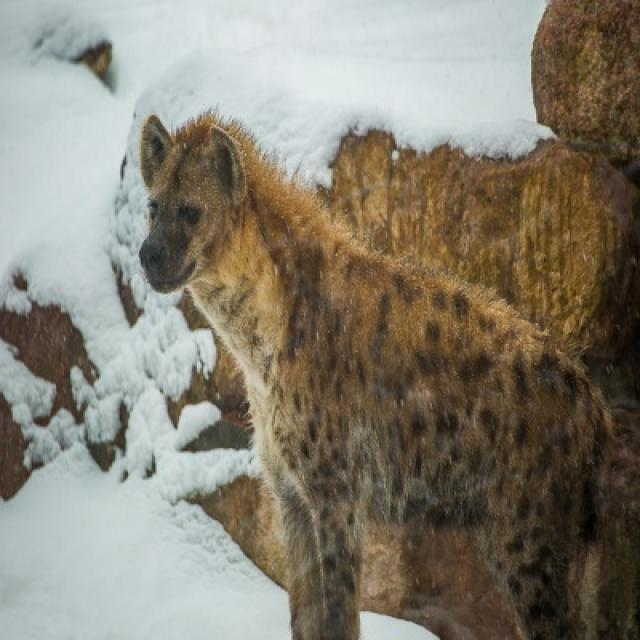hyena: (139, 119, 608, 638)
